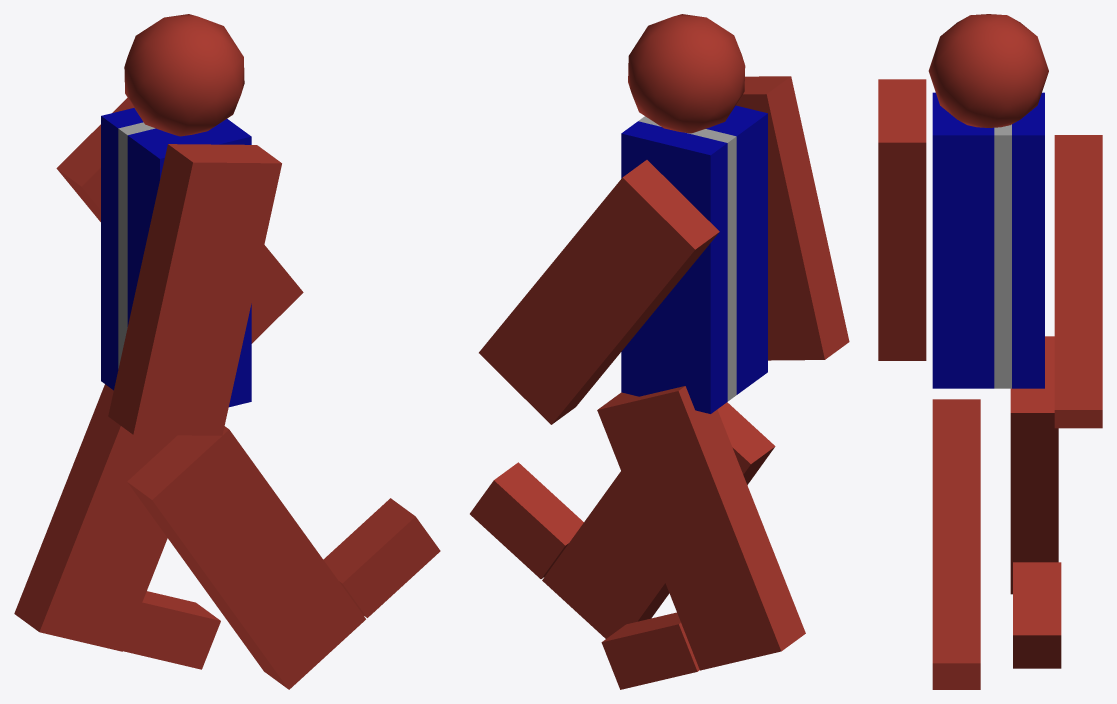
The model's file is player_000027.obj.
3 renders of one model, left to right at view 1: azimuth 30°, elevation 25°; view 2: azimuth 150°, elevation 25°; view 3: azimuth 270°, elevation 25°, orthographic. The views are drawn at different scales.
Parts seen in each view (by area): view 1: Cube.005, Cube.001, Cube.002, Cube, Icosphere, Cube.003, Cube.004, Cube.006; view 2: Cube.002, Cube, Cube.006, Cube.005, Cube.001, Icosphere, Cube.003, Cube.004; view 3: Cube, Cube.006, Cube.005, Cube.001, Icosphere, Cube.002, Cube.004, Cube.003.
Part boxes in pixels (x1,y1,x2,y2): Cube.005: (108, 144, 281, 435); Cube.001: (127, 426, 365, 689); Cube.002: (14, 384, 177, 651); Cube: (101, 108, 251, 407); Icosphere: (124, 14, 244, 136); Cube.003: (323, 498, 440, 617); Cube.004: (123, 591, 220, 669); Cube.006: (56, 97, 303, 343); Cube.002: (597, 386, 805, 670); Cube: (621, 105, 767, 413); Cube.006: (479, 160, 719, 424); Cube.005: (736, 76, 849, 360); Cube.001: (542, 402, 775, 638); Icosphere: (628, 14, 745, 133); Cube.003: (470, 462, 583, 578); Cube.004: (601, 612, 699, 689); Cube: (932, 92, 1044, 388); Cube.006: (1054, 135, 1102, 428); Cube.005: (878, 79, 926, 360); Cube.001: (932, 399, 980, 689); Icosphere: (928, 14, 1048, 127); Cube.002: (1010, 336, 1058, 594); Cube.004: (1013, 562, 1061, 668); Cube.003: (932, 612, 980, 676).
Bounding box in the file's own units: 1.62 × 2.86 × 0.9137.
